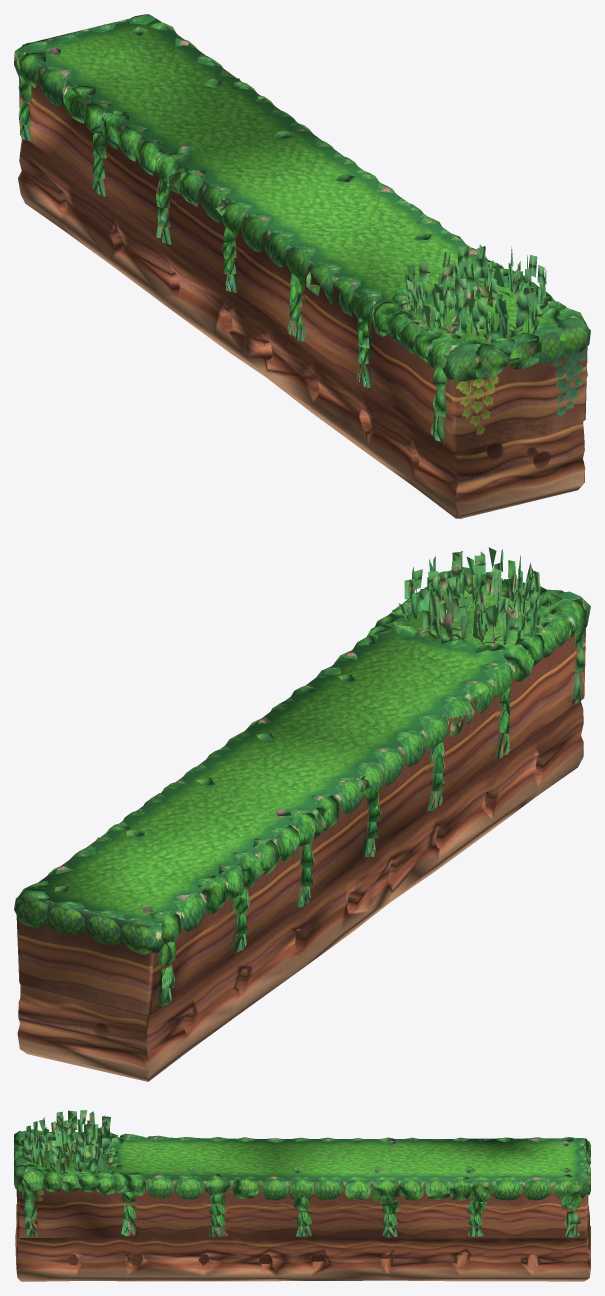
Rendered from DeepGrass.fbx.
3 renders of one model, top to bottom at view 1: azimuth 30°, elevation 25°; view 2: azimuth 150°, elevation 25°; view 3: azimuth 270°, elevation 25°, orthographic. The views are drawn at different scales.
Visible parts, largest first — view 1: mesh_node; view 2: mesh_node; view 3: mesh_node.
Part boxes in pixels (<box>): mesh_node: <box>14,14,590,518</box>; mesh_node: <box>14,547,590,1081</box>; mesh_node: <box>14,1110,590,1281</box>.
Bounding box in the file's own units: 20.85 × 25.88 × 100.
Materials: 1 (1 with a texture image).
